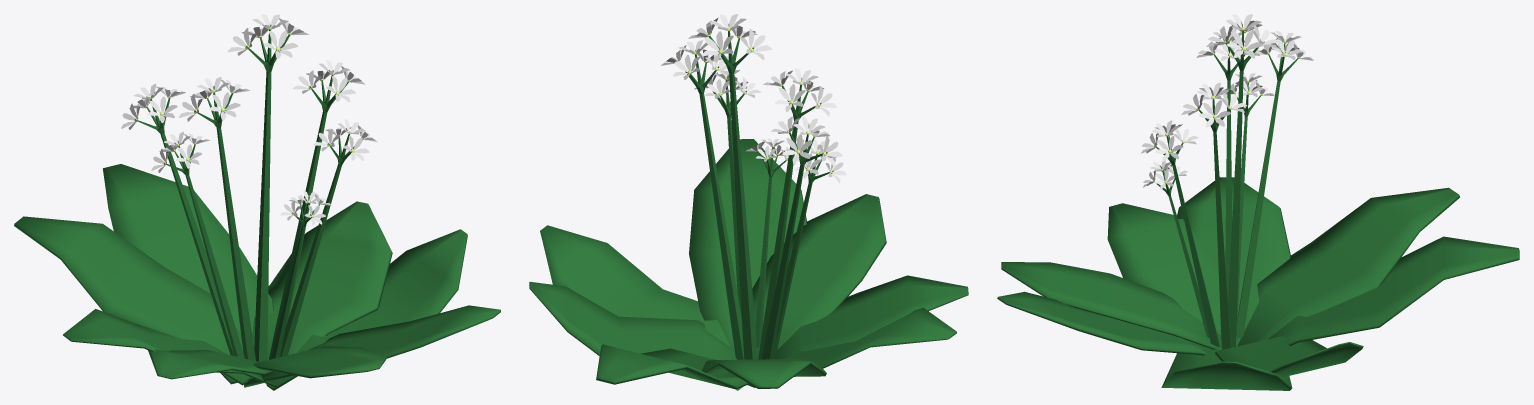
Rendered from wild garlic.fbx.
3 renders of one model, left to right at view 1: azimuth 30°, elevation 25°; view 2: azimuth 150°, elevation 25°; view 3: azimuth 270°, elevation 25°, orthographic. The views are drawn at different scales.
Parts seen in each view (by area): view 1: Plane.004; view 2: Plane.004; view 3: Plane.004.
Part boxes in pixels (<box>): Plane.004: <box>14,14,500,390</box>; Plane.004: <box>529,14,968,390</box>; Plane.004: <box>997,14,1519,390</box>.
Bounding box in the file's own units: 793 × 671 × 907.
